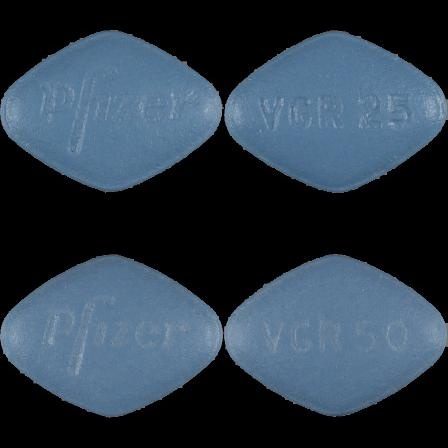0069-4200: (0, 0, 224, 224)
